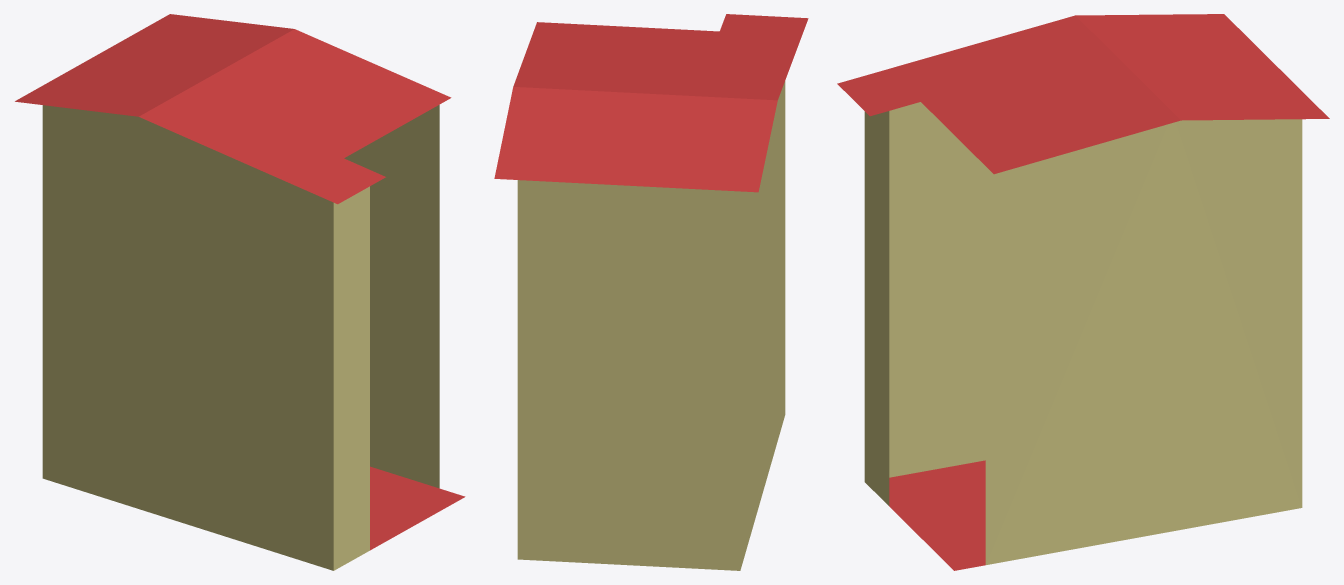
3 views of the same model, side by side, from view 1: azimuth 30°, elevation 25°; view 2: azimuth 150°, elevation 25°; view 3: azimuth 270°, elevation 25° (orthographic). The views are drawn at different scales.
Size of the model in its own units: 4.64 by 5.83 by 5.47.
